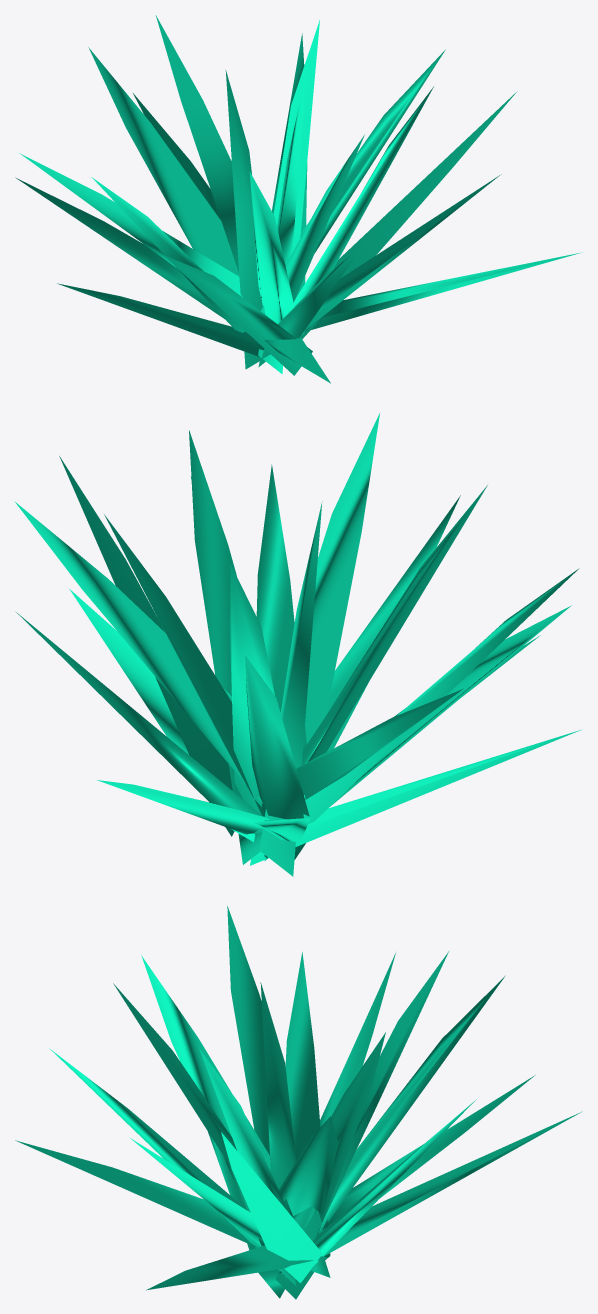
Rendered from Agave_LOD2.obj.
3 views of the same model, one above another, from view 1: azimuth 30°, elevation 25°; view 2: azimuth 150°, elevation 25°; view 3: azimuth 270°, elevation 25° (orthographic). The views are drawn at different scales.
Visible parts, largest first — view 1: Agave_LOD2; view 2: Agave_LOD2; view 3: Agave_LOD2.
Boxes of the visible parts, <box> form: Agave_LOD2: <box>15,15,582,383</box>; Agave_LOD2: <box>14,413,581,876</box>; Agave_LOD2: <box>15,906,582,1299</box>.
Bounding box in the file's own units: 181 × 115 × 186.
